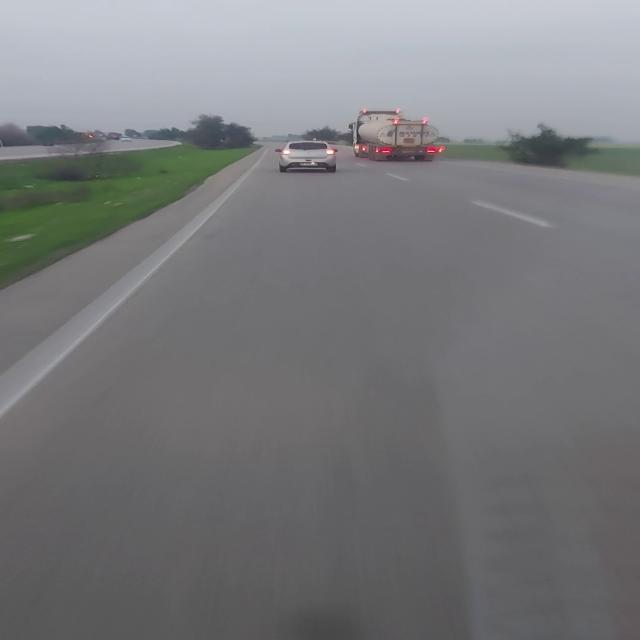Car: (274, 138, 342, 172)
Truck: (348, 108, 450, 164)
